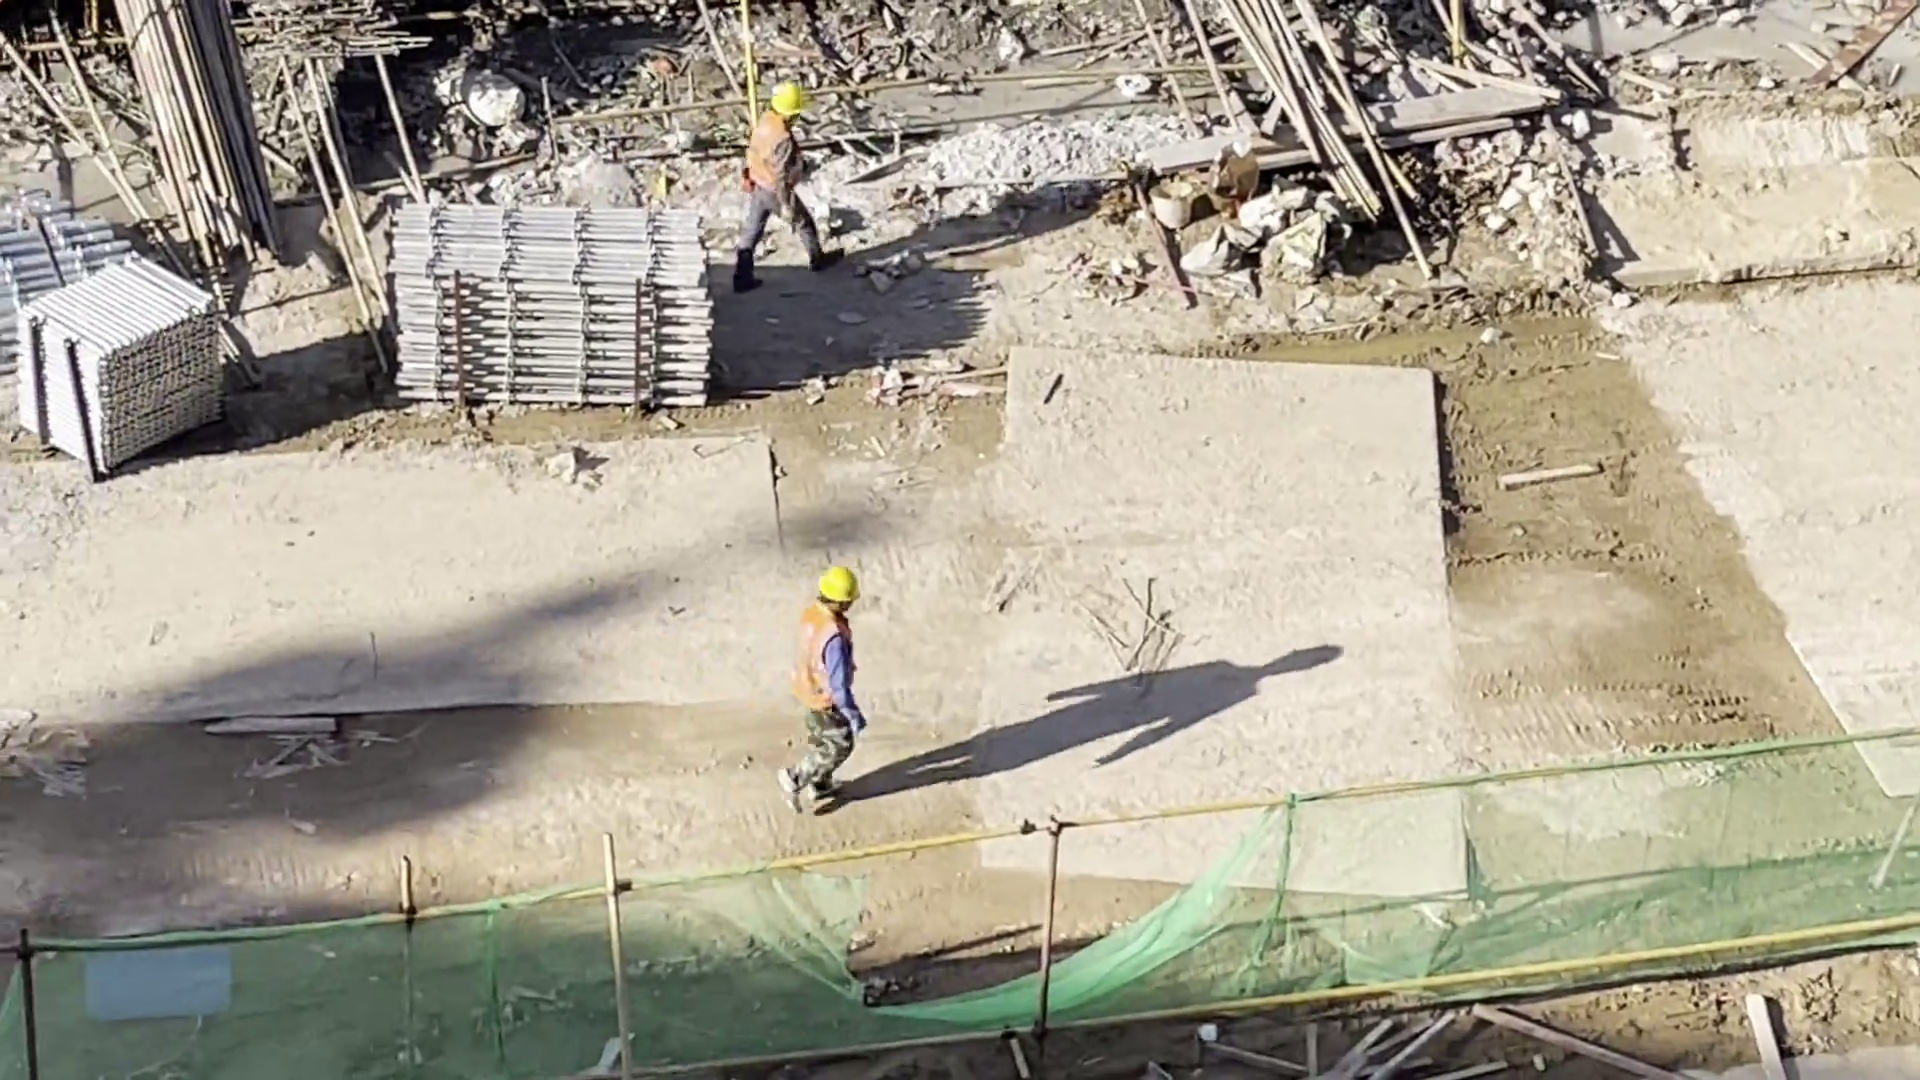helmet: (811, 549, 867, 612), (763, 71, 818, 122)
person: (730, 75, 860, 291), (780, 556, 867, 827)
scaffold: (369, 190, 722, 440), (6, 242, 226, 490)
vest: (796, 609, 849, 723), (741, 112, 801, 204)
